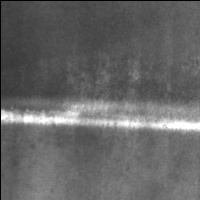scratches: (1, 104, 200, 134)
